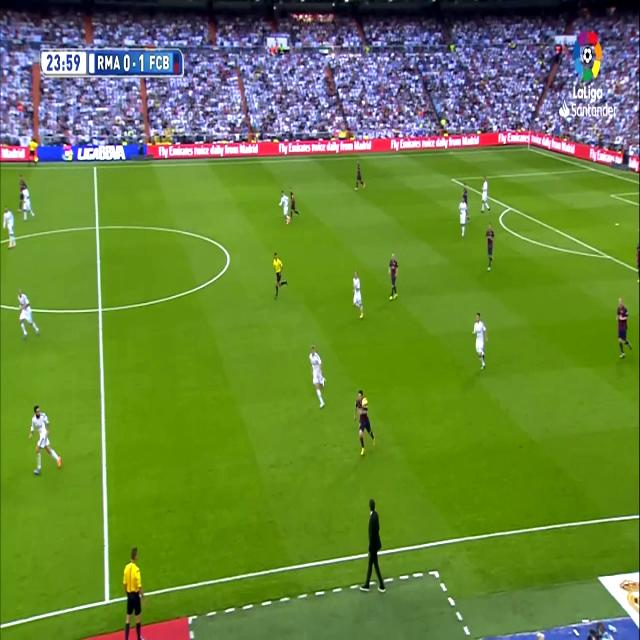halfcircle_bottom: (94, 293, 106, 323)
halfcircle_top: (92, 214, 103, 238)
midline_bottom_intersection: (100, 581, 116, 610)
midline_top_intersection: (91, 160, 99, 174)
